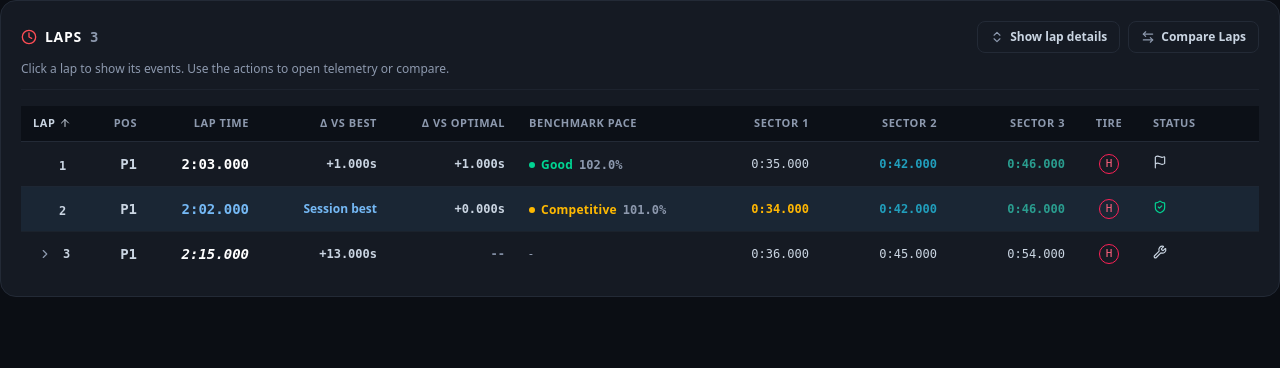
Test: SessionLapTableRow expansion and actions › toggles details from the row and lap number with replay=true
The image size is (1280, 368).
What coordinates should you click on to do the following:
click the row titled "Details for Lap 3"
I would click on:
 (215, 254)
Its box is [21,231,1279,276].
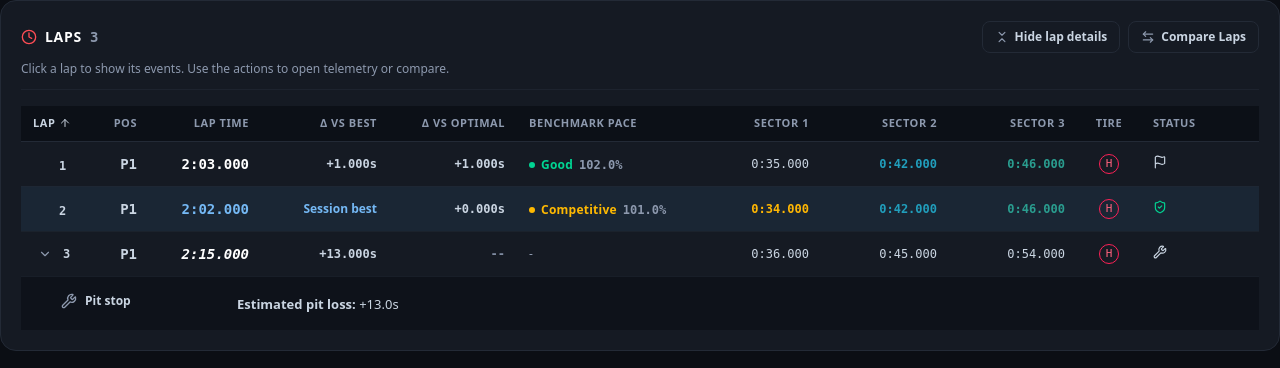
Expected: the row with test id "lap-details-3" is shown, [21,276,1259,330]
Expected: the row titled "Details for Lap 3" is expanded, [21,231,1259,276]
What coordinates should you click on to do the following:
click the text "3" in the row of "2:15.000"
I would click on:
 (67, 254)
Its box is [63,246,70,262].
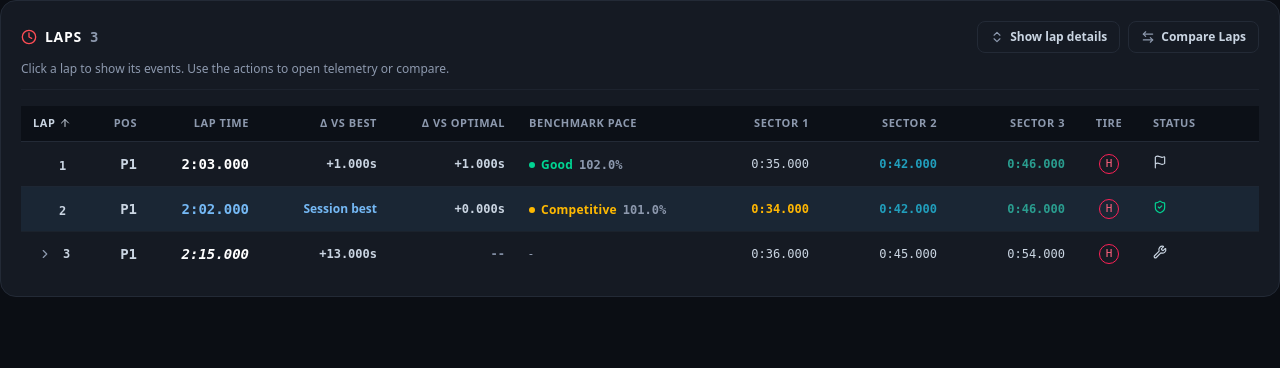
Expected: the row with test id "lap-details-3" is gone
Expected: the row titled "Details for Lap 3" is collapsed, [21,231,1259,276]
